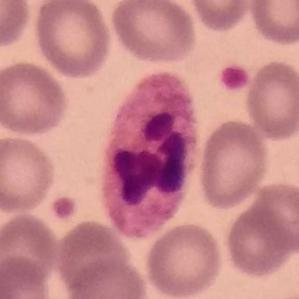Neutrophil: (99, 65, 205, 240)
Platelets: (49, 192, 81, 225), (218, 63, 250, 93)
RBC: (195, 117, 272, 210), (53, 218, 139, 298), (30, 0, 115, 80), (142, 220, 225, 299), (222, 194, 296, 282), (107, 0, 199, 67), (0, 58, 71, 138), (0, 132, 59, 214), (0, 210, 61, 288), (243, 58, 298, 142), (245, 179, 299, 256), (63, 254, 151, 299), (0, 255, 56, 299), (246, 0, 298, 47), (185, 0, 254, 34), (0, 0, 33, 51)
